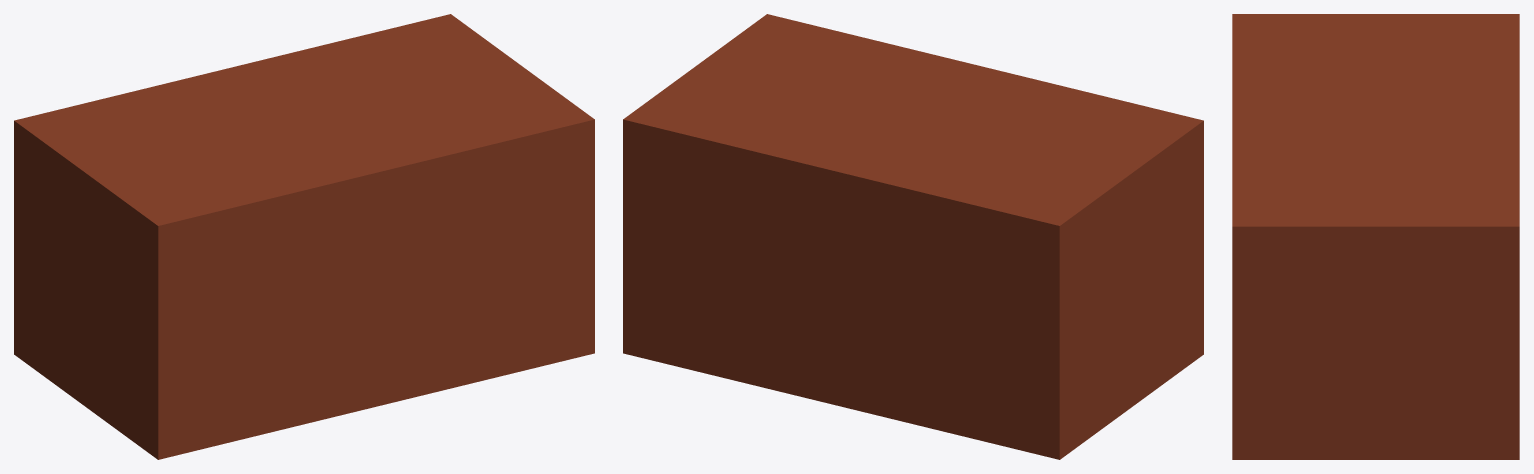
Rendered from Brick_01.fbx.
3 views of the same model, side by side, from view 1: azimuth 30°, elevation 25°; view 2: azimuth 150°, elevation 25°; view 3: azimuth 270°, elevation 25° (orthographic).
Visible parts, largest first — view 1: Brick_01; view 2: Brick_01; view 3: Brick_01.
Part boxes in pixels (x1=…): Brick_01: x1=14, y1=14, x2=594, y2=459; Brick_01: x1=623, y1=14, x2=1203, y2=459; Brick_01: x1=1232, y1=14, x2=1519, y2=459.
Bounding box in the file's own units: 45.32 × 23.19 × 25.9.
